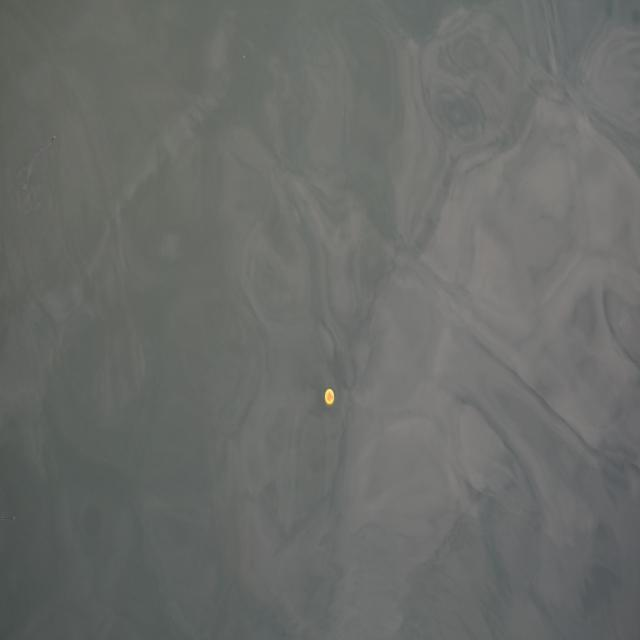Botol Plastik: (322, 384, 340, 411)
